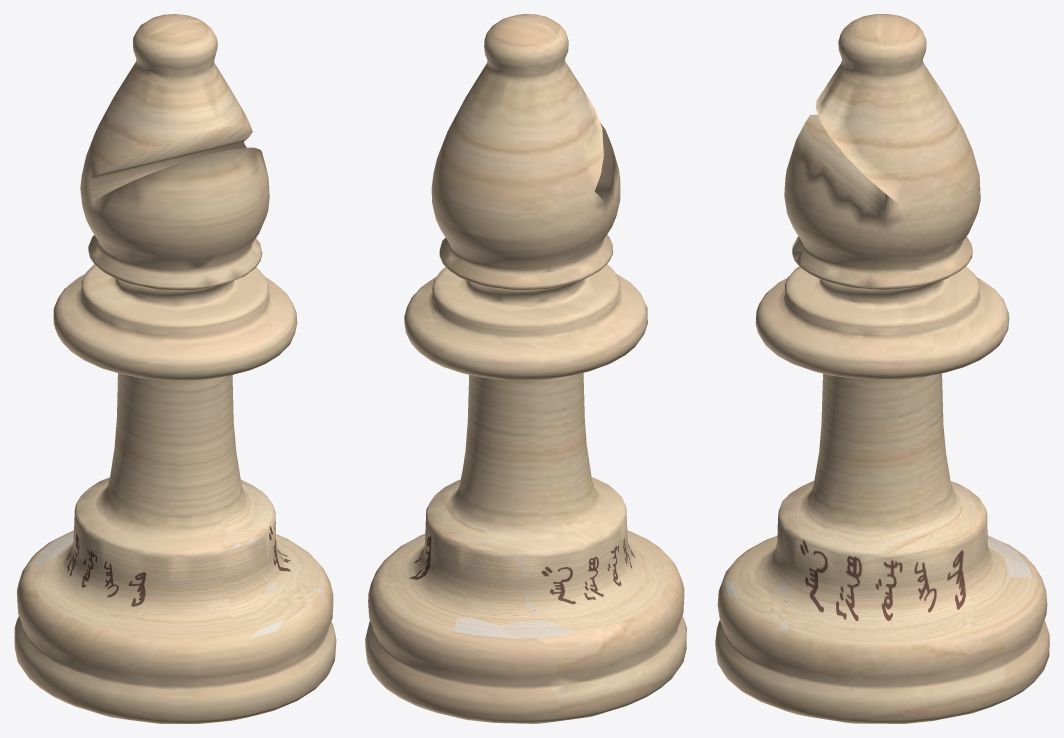
File: Alfil.fbx
3 renders of one model, left to right at view 1: azimuth 30°, elevation 25°; view 2: azimuth 150°, elevation 25°; view 3: azimuth 270°, elevation 25°, orthographic.
Parts seen in each view (by area): view 1: Alfil; view 2: Alfil; view 3: Alfil.
Part boxes in pixels (x1=…): Alfil: x1=14, y1=14, x2=336, y2=723; Alfil: x1=365, y1=14, x2=686, y2=723; Alfil: x1=715, y1=14, x2=1049, y2=723.
Bounding box in the file's own units: 36.82 × 82.04 × 38.58.
Materials: 2 (2 with a texture image).
